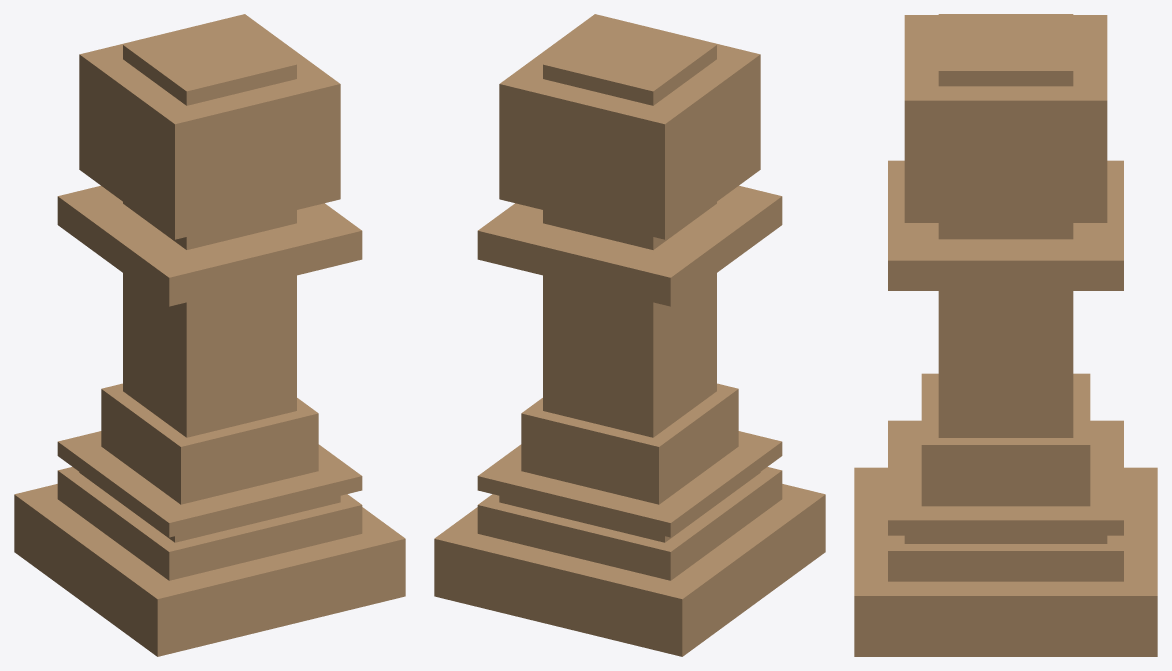
The model's file is white_pawn.glb.
3 views of the same model, side by side, from view 1: azimuth 30°, elevation 25°; view 2: azimuth 150°, elevation 25°; view 3: azimuth 270°, elevation 25° (orthographic). The views are drawn at different scales.
Parts seen in each view (by area): view 1: Untitled; view 2: Untitled; view 3: Untitled.
Part boxes in pixels (bbox=[...]): Untitled: bbox=[14, 14, 405, 656]; Untitled: bbox=[434, 14, 825, 656]; Untitled: bbox=[854, 14, 1157, 656].
Size of the model in its own units: 0.54 by 1.08 by 0.54.
1 material, 1 textured.
